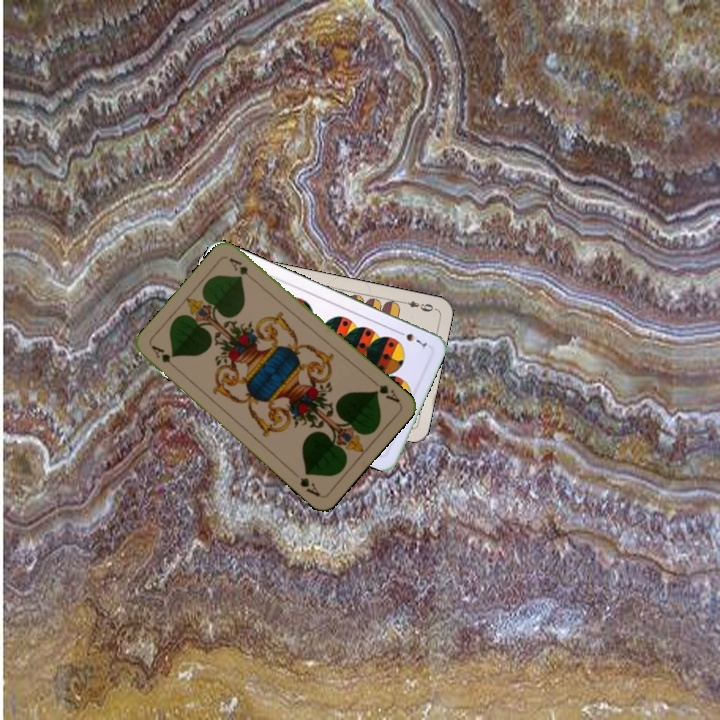E9: (398, 297, 438, 314)
GA: (147, 341, 181, 373), (368, 377, 402, 406)
S7: (393, 327, 429, 349)
